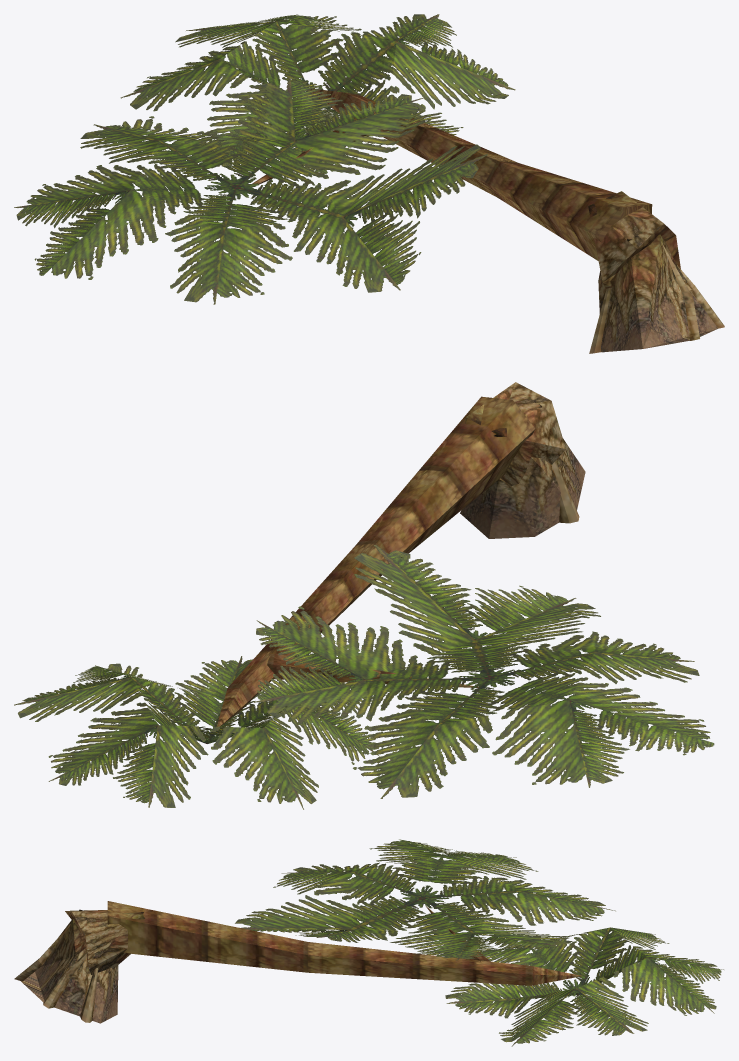
File: C3SNTREEJNGDEAD.obj
3 views of the same model, one above another, from view 1: azimuth 30°, elevation 25°; view 2: azimuth 150°, elevation 25°; view 3: azimuth 270°, elevation 25° (orthographic). The views are drawn at different scales.
Parts seen in each view (by area): view 1: Node 0; view 2: Node 0; view 3: Node 0.
Boxes of the visible parts, bbox=[...] form: Node 0: bbox=[14, 14, 724, 353]; Node 0: bbox=[14, 382, 714, 809]; Node 0: bbox=[14, 839, 723, 1046].
Bounding box in the file's own units: 13.32 × 3.17 × 19.07.
1 material, 1 textured.
